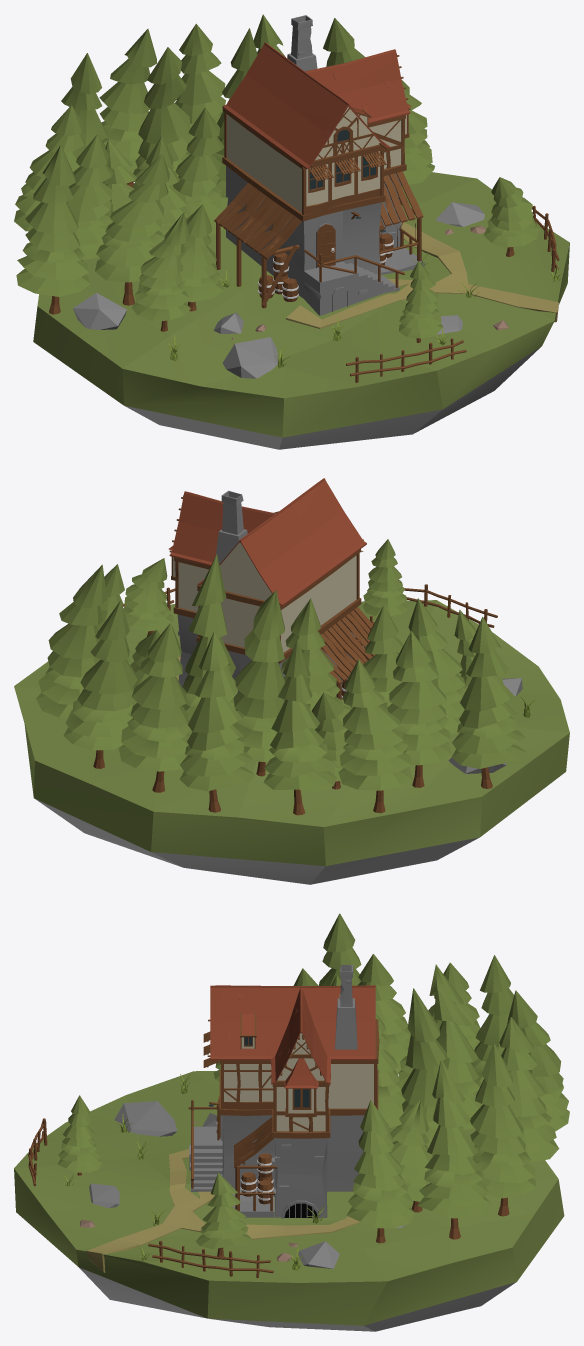
Rendered from small-village.glb.
The picture shows the model from 3 angles, top to bottom: view 1: azimuth 30°, elevation 25°; view 2: azimuth 150°, elevation 25°; view 3: azimuth 270°, elevation 25°; orthographic projection. The views are drawn at different scales.
Visible parts, largest first — view 1: Cylinder; view 2: Cylinder; view 3: Cylinder.
Boxes of the visible parts, x1=… form: Cylinder: x1=14, y1=14, x2=569, y2=449; Cylinder: x1=14, y1=478, x2=569, y2=884; Cylinder: x1=14, y1=913, x2=569, y2=1331.
Size of the model in its own units: 10.49 by 6.44 by 10.6.
